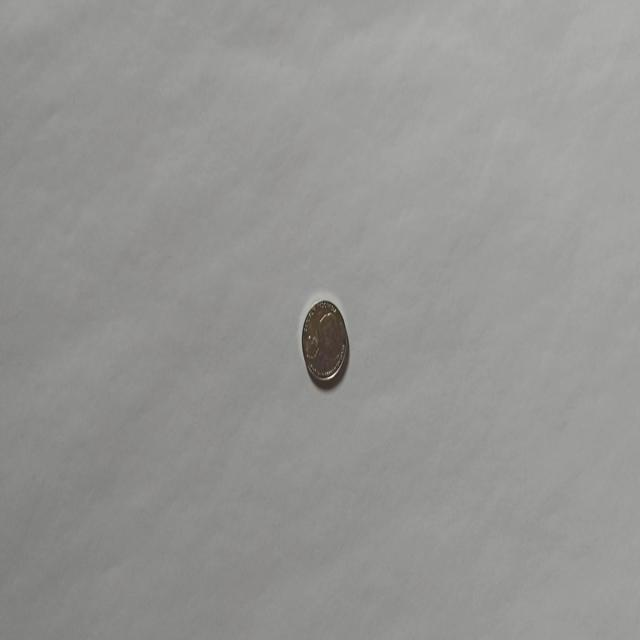seratus rupiah: (300, 298, 350, 386)
